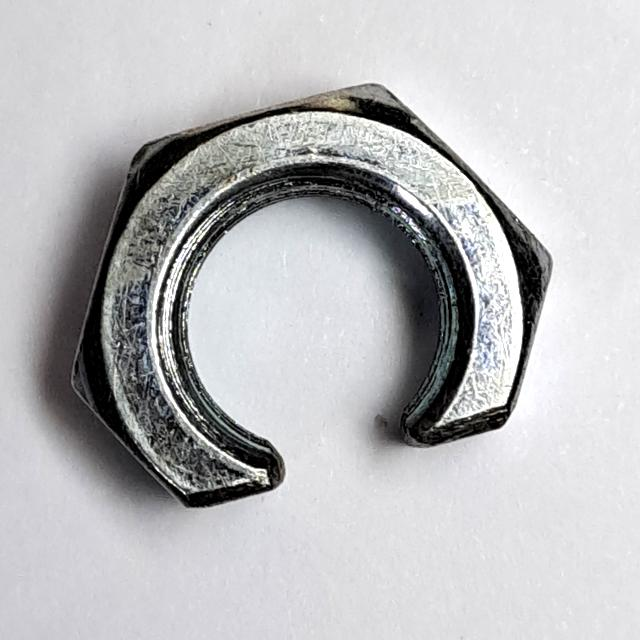Fracture: (53, 66, 562, 523)
